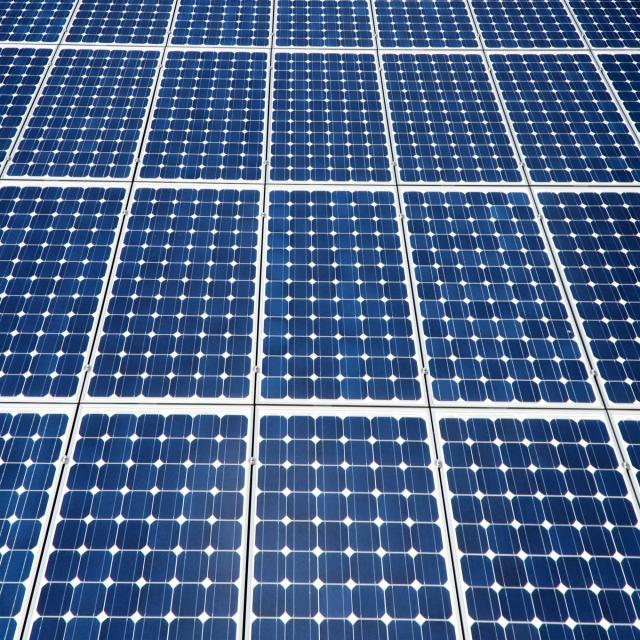clean-solar-panel: (1, 0, 640, 640)
